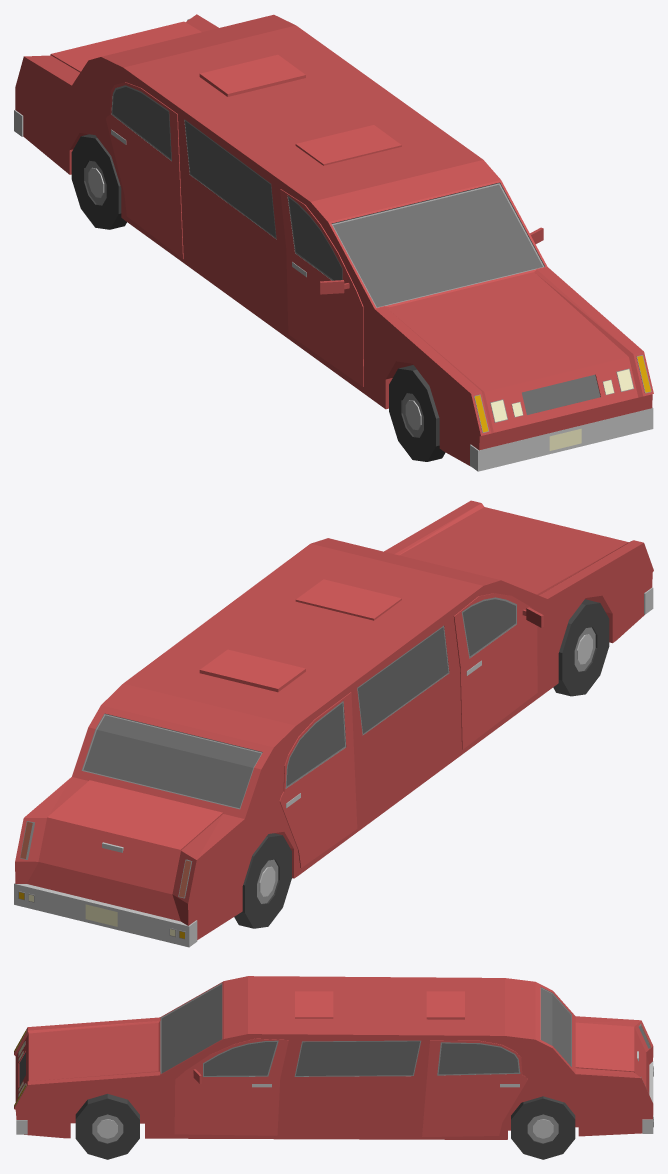
File: limousine_2.fbx
3 renders of one model, top to bottom at view 1: azimuth 30°, elevation 25°; view 2: azimuth 150°, elevation 25°; view 3: azimuth 270°, elevation 25°, orthographic. The views are drawn at different scales.
Visible parts, largest first — view 1: et, Cylinder_2_1, Cylinder_2_3; view 2: et, Cylinder_2_1, Cylinder_2_3; view 3: et, Cylinder_2, Cylinder_2_2.
Boxes of the visible parts, x1,y1,x2,y2 form: et: (14, 14, 653, 471); Cylinder_2_1: (389, 365, 445, 461); Cylinder_2_3: (71, 134, 126, 229); et: (14, 500, 653, 947); Cylinder_2_1: (553, 599, 609, 696); Cylinder_2_3: (234, 833, 291, 928); et: (14, 976, 653, 1139); Cylinder_2: (75, 1093, 139, 1159); Cylinder_2_2: (511, 1096, 575, 1159).
Bounding box in the file's own units: 169 × 133 × 612.
